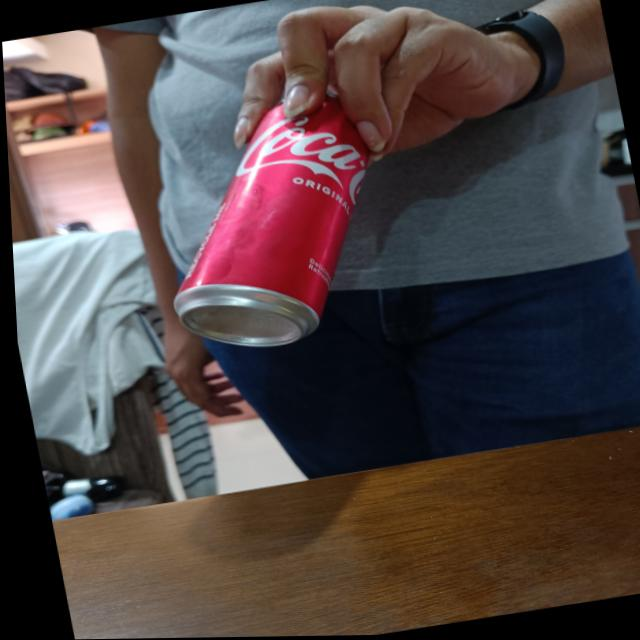coke: (138, 81, 407, 362)
